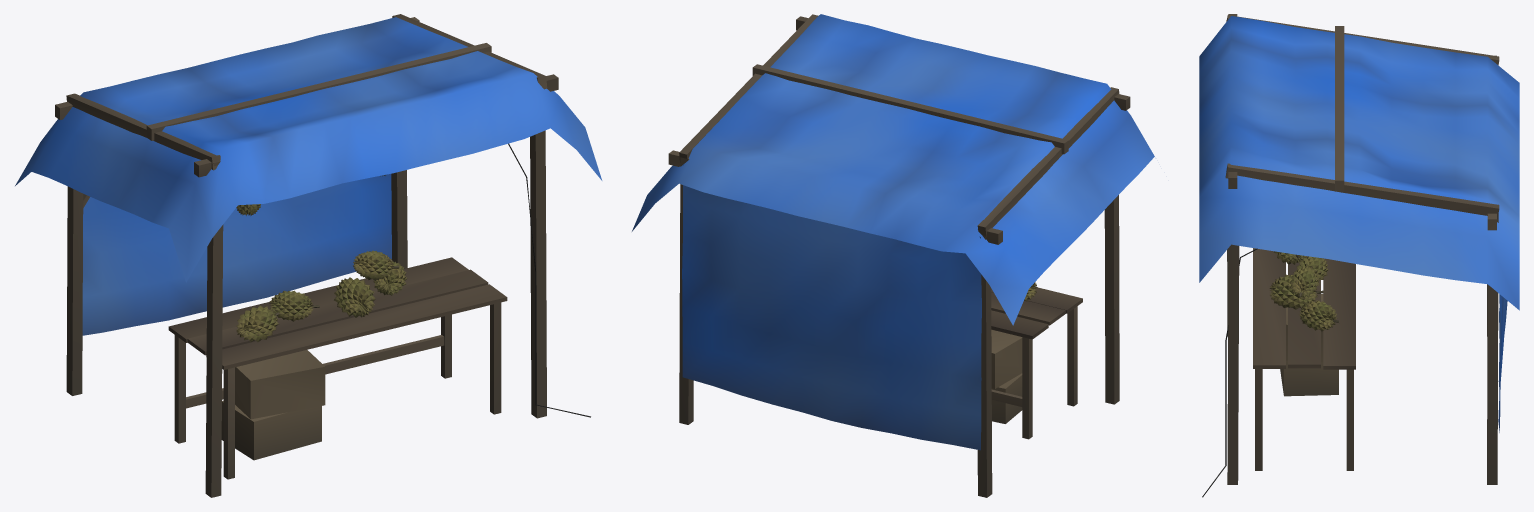
The model's file is fruit_stall.glb.
The picture shows the model from 3 angles, left to right: view 1: azimuth 30°, elevation 25°; view 2: azimuth 150°, elevation 25°; view 3: azimuth 270°, elevation 25°; orthographic projection. The views are drawn at different scales.
Visible parts, largest first — view 1: FruitStall; view 2: FruitStall; view 3: FruitStall.
Boxes of the visible parts, bbox=[...] form: FruitStall: bbox=[15, 14, 602, 497]; FruitStall: bbox=[632, 14, 1154, 497]; FruitStall: bbox=[1199, 14, 1519, 497].
Bounding box in the file's own units: 2.94 × 2.33 × 2.1.
